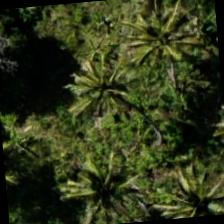Kelapa_Sawit: (146, 161, 223, 222)
